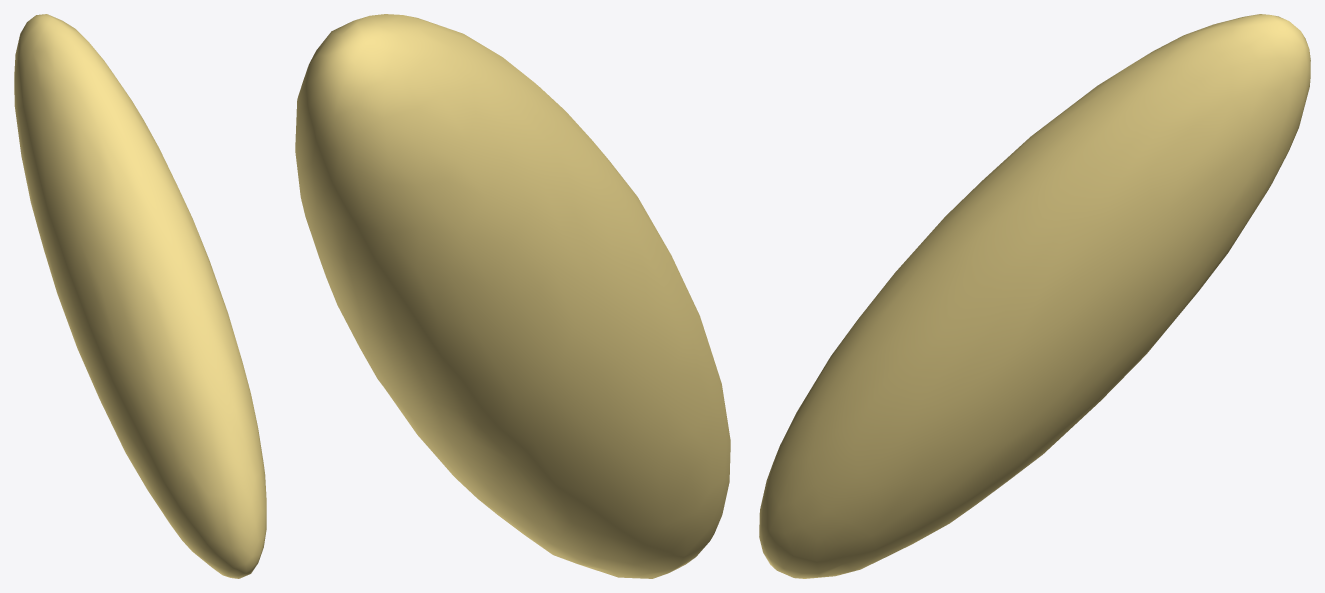
File: fma73338_fj7488.glb
3 renders of one model, left to right at view 1: azimuth 30°, elevation 25°; view 2: azimuth 150°, elevation 25°; view 3: azimuth 270°, elevation 25°, orthographic. The views are drawn at different scales.
Parts seen in each view (by area): view 1: FMA73338_FJ7488; view 2: FMA73338_FJ7488; view 3: FMA73338_FJ7488.
Boxes of the visible parts, bbox=[...] form: FMA73338_FJ7488: bbox=[14, 14, 266, 578]; FMA73338_FJ7488: bbox=[295, 14, 730, 578]; FMA73338_FJ7488: bbox=[759, 14, 1310, 578].
Size of the model in its own units: 0.000999 by 0.00328 by 0.00296.
